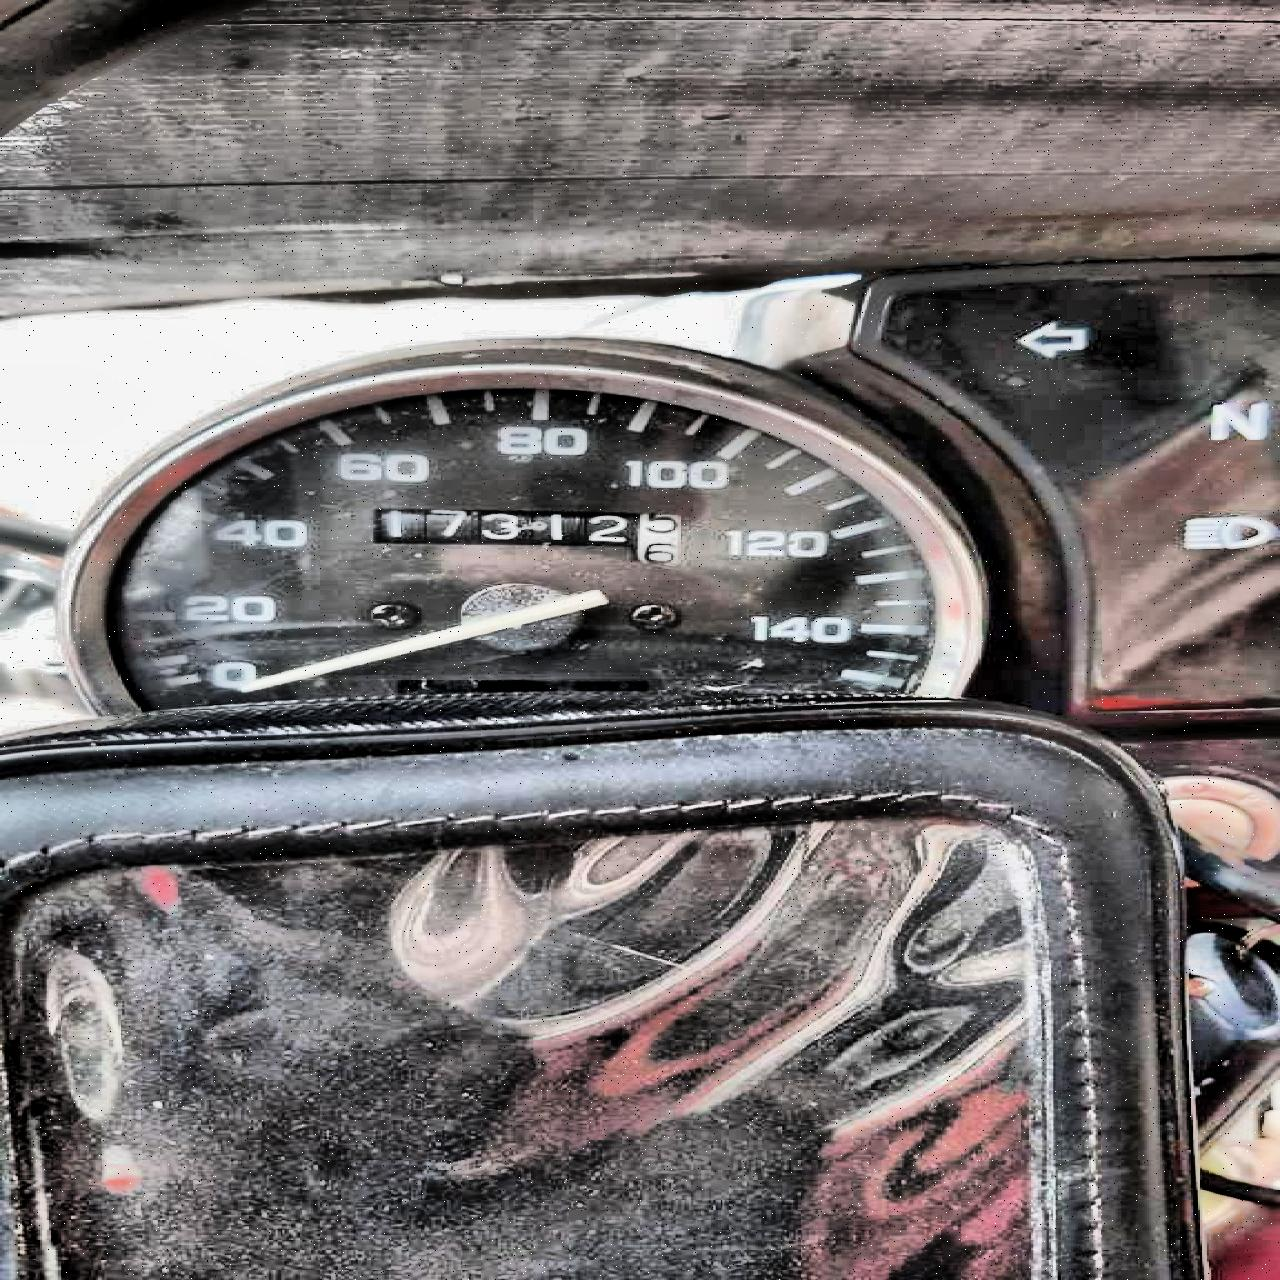1: (543, 510, 573, 546), (380, 509, 404, 539)
2: (584, 512, 628, 546)
3: (481, 511, 520, 540)
5: (642, 509, 680, 533)
6: (642, 539, 678, 563)
7: (427, 505, 469, 537)
odometer: (354, 502, 702, 568)
